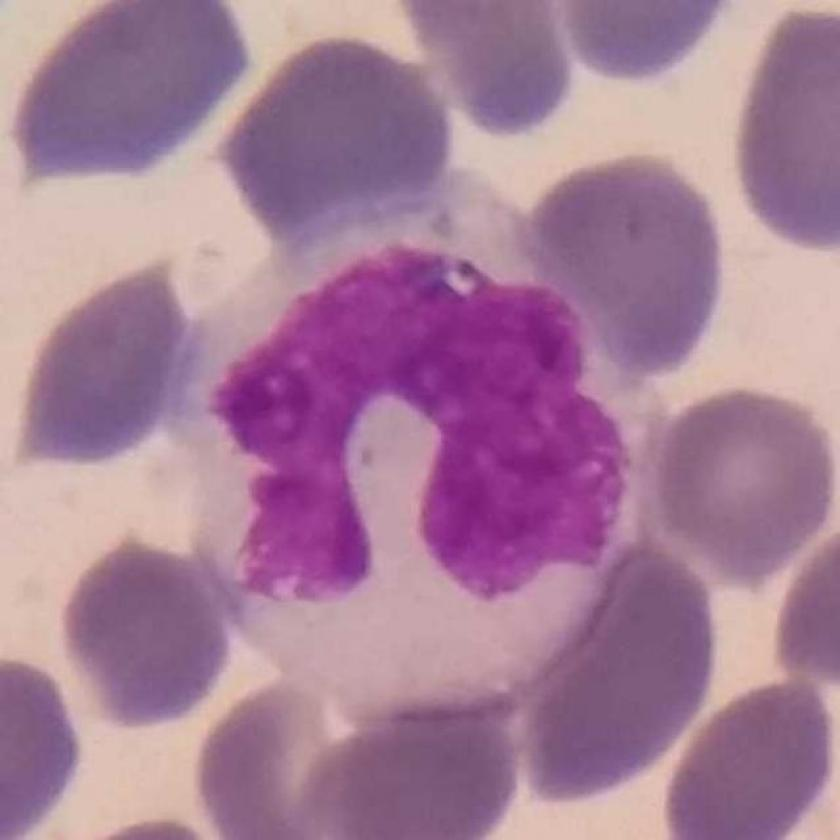monocyte: (170, 172, 660, 715)
